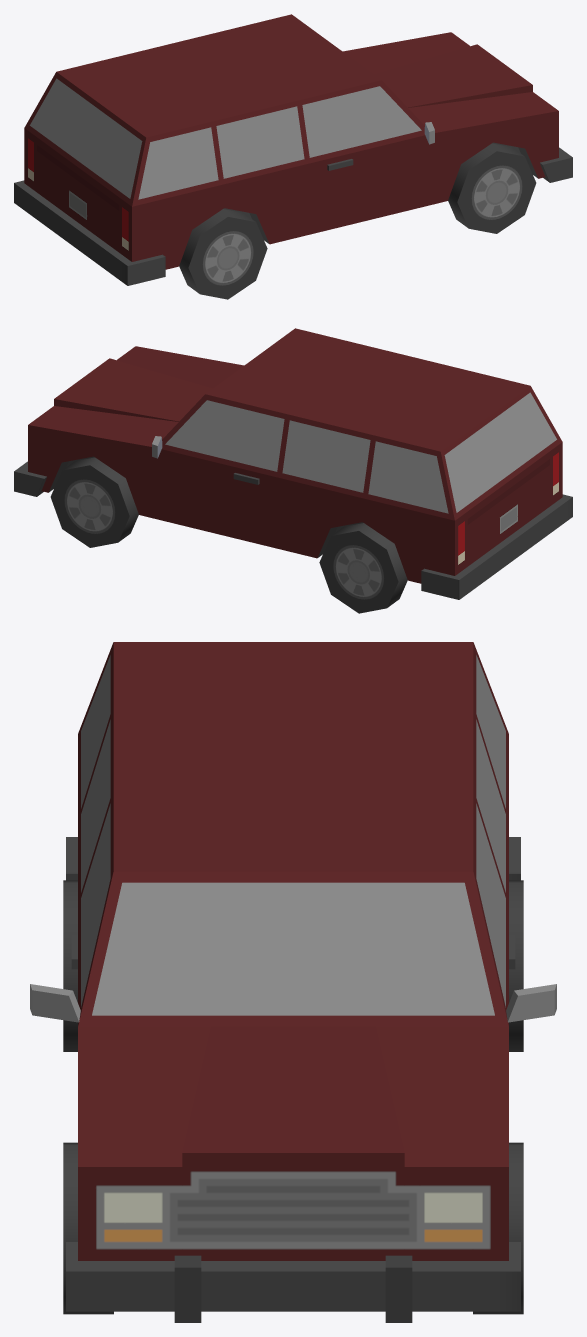
Rendered from west_che03.FBX.
3 renders of one model, top to bottom at view 1: azimuth 30°, elevation 25°; view 2: azimuth 150°, elevation 25°; view 3: azimuth 270°, elevation 25°, orthographic. The views are drawn at different scales.
Parts seen in each view (by area): view 1: west_che03; view 2: west_che03; view 3: west_che03.
Boxes of the visible parts, box(x1,y1,x2,y2) form: west_che03: box(14, 14, 572, 299); west_che03: box(14, 328, 572, 613); west_che03: box(30, 642, 556, 1322).
Size of the model in its own units: 1231 by 444 by 625.
